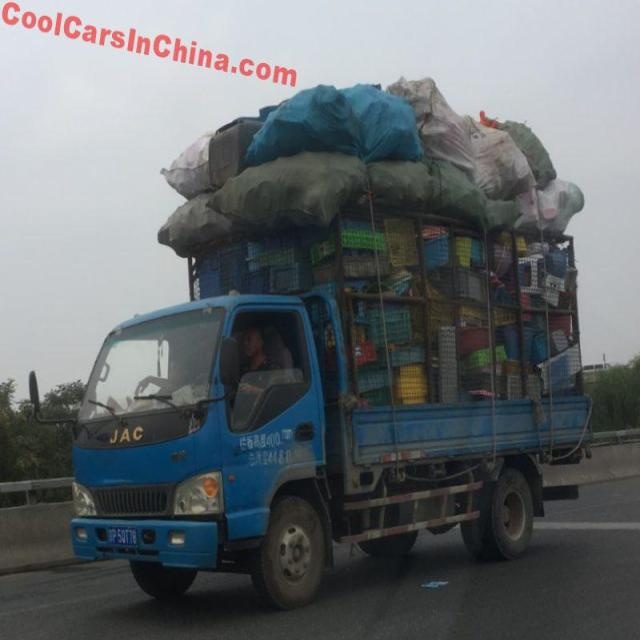overloaded_truck: (31, 74, 595, 610)
